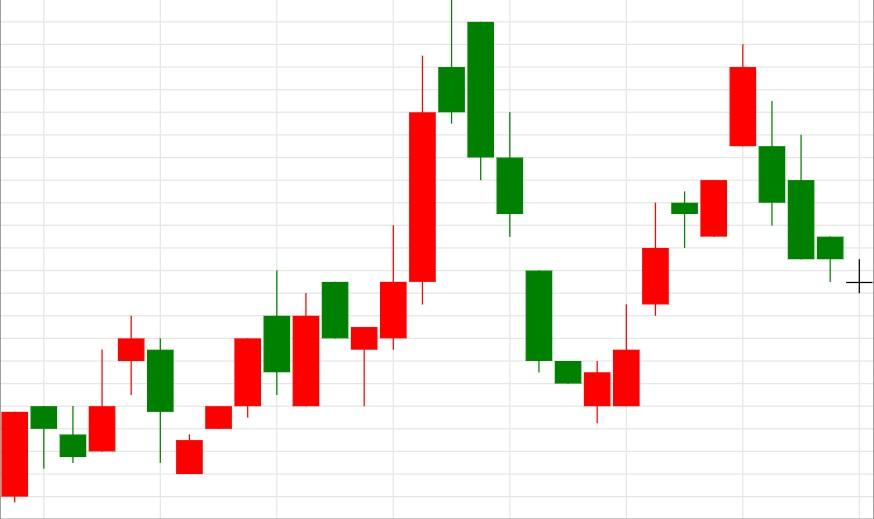three_black_crows_fall: (349, 0, 553, 407)
three_white_soldiers_rise: (118, 316, 261, 475)
